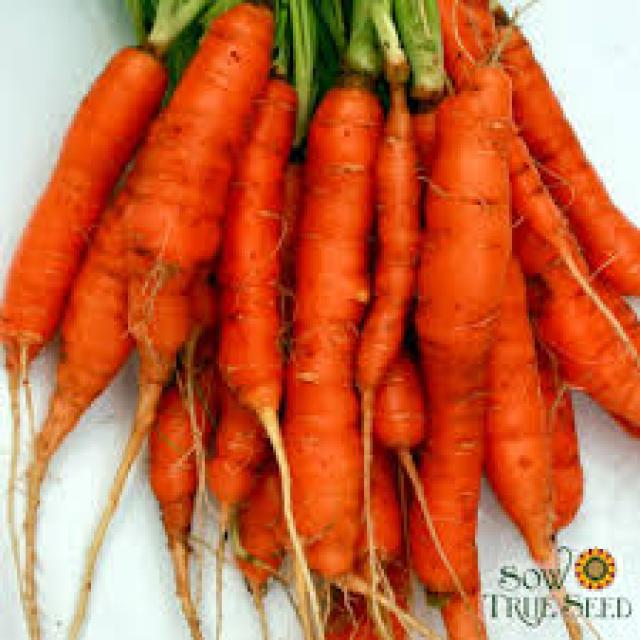Carrot: (296, 81, 378, 564)
